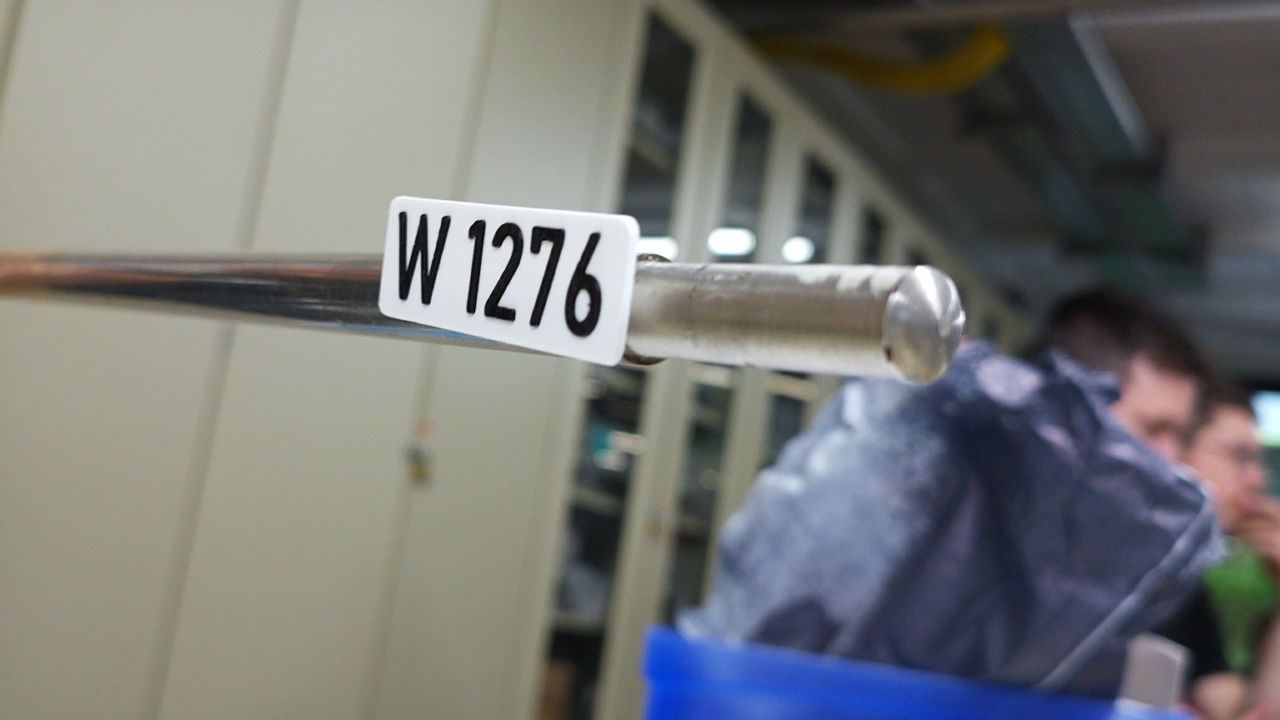license_plate: (375, 190, 643, 370)
